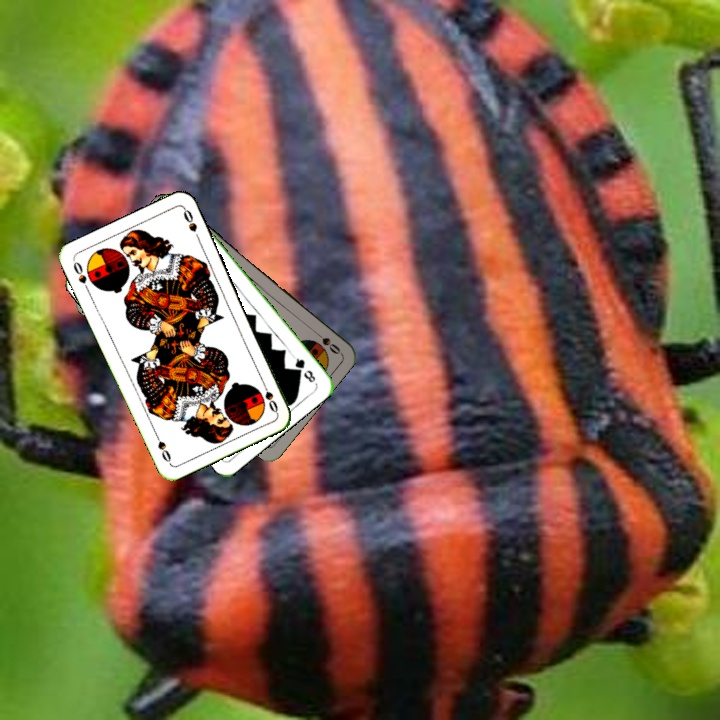G8: (289, 352, 318, 385)
SO: (309, 326, 343, 357), (258, 376, 281, 415), (69, 257, 92, 295)
